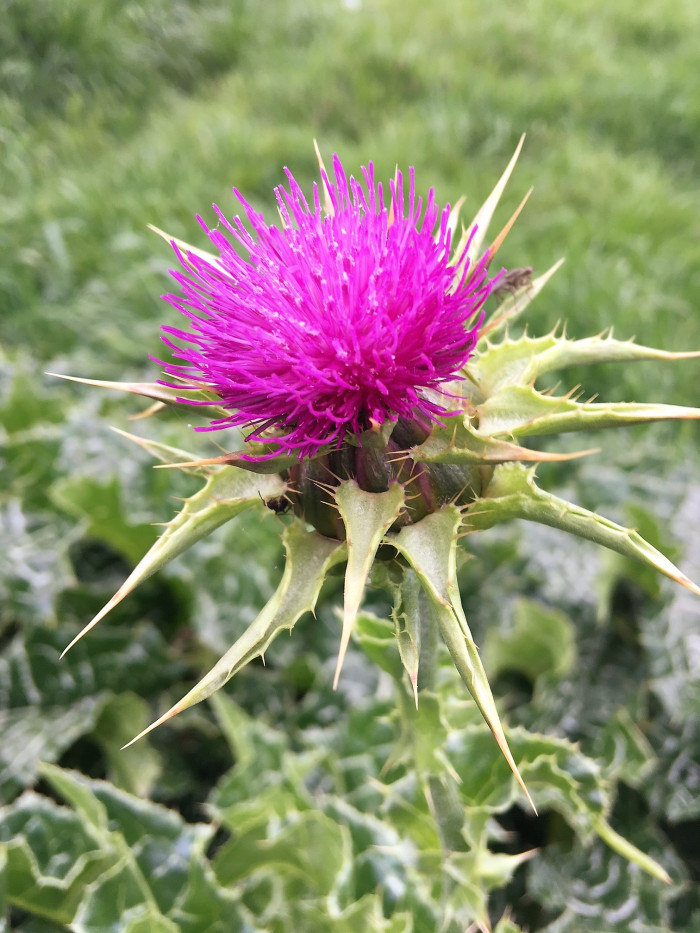thistle: (80, 169, 684, 714)
